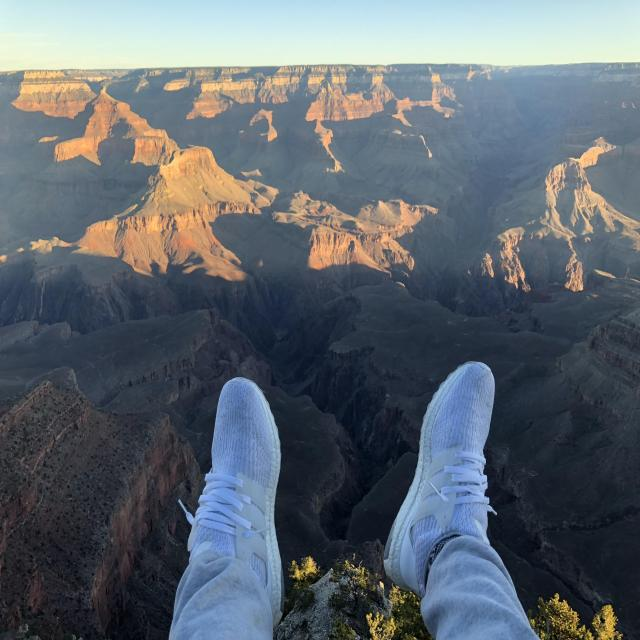shoe: (381, 355, 509, 602), (178, 373, 288, 640)
